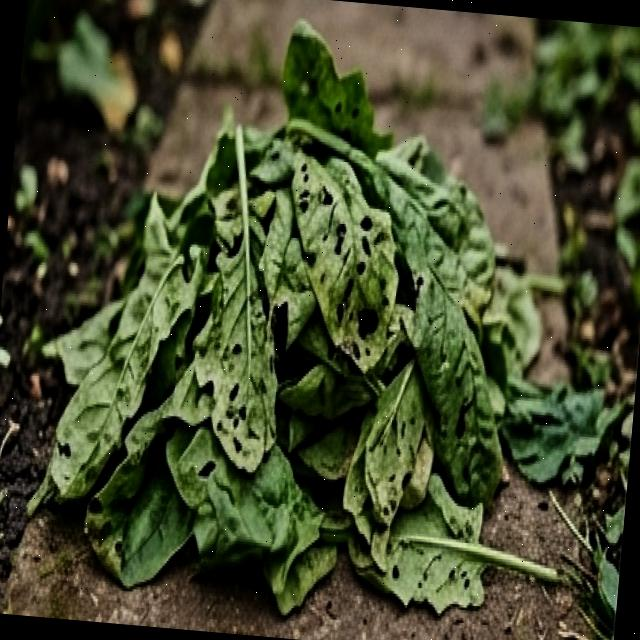rotten spinach: (21, 0, 600, 640)
